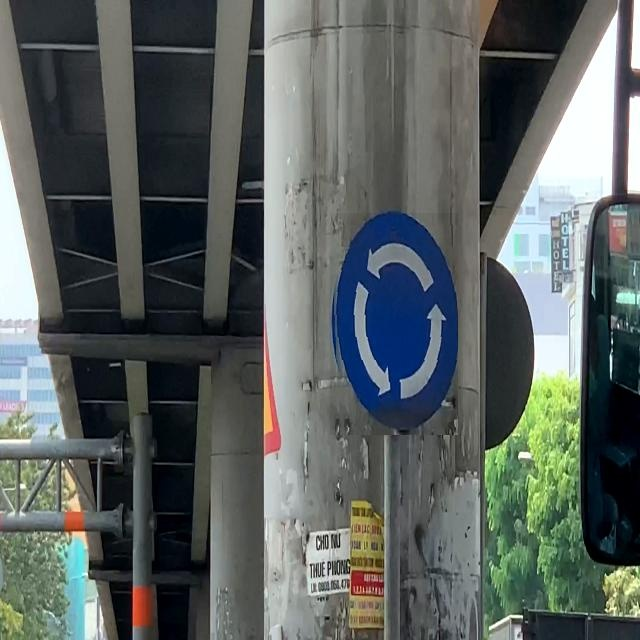bien_hieu_lenh: (331, 213, 458, 435)
